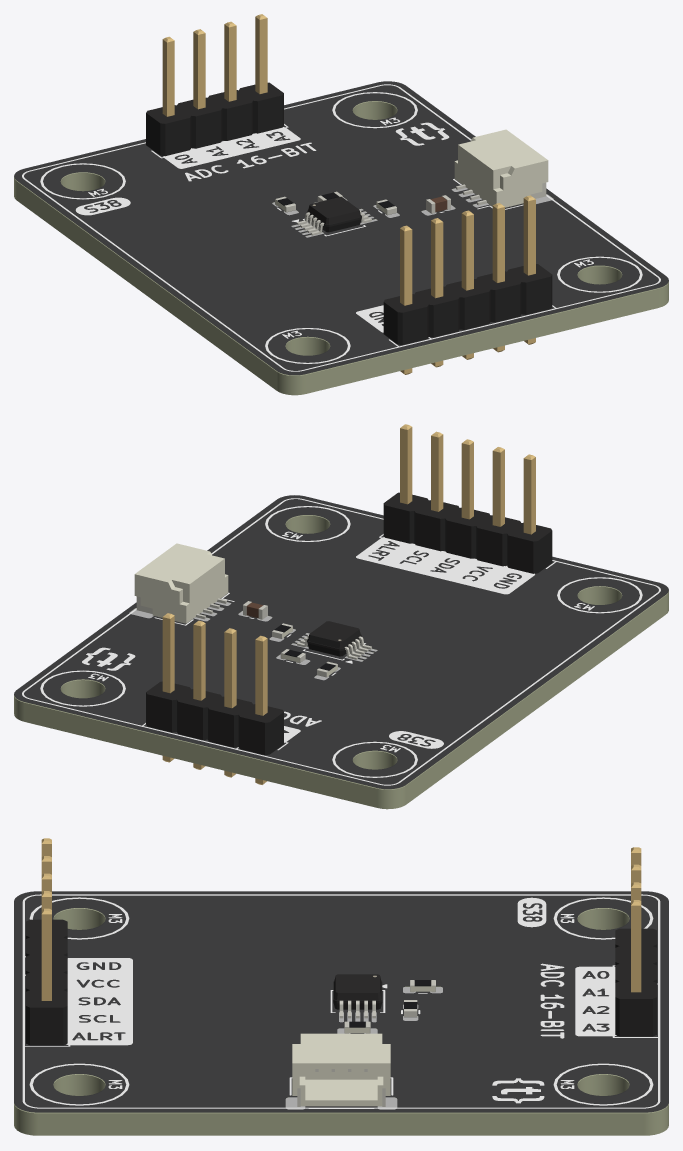
The picture shows the model from 3 angles, top to bottom: view 1: azimuth 30°, elevation 25°; view 2: azimuth 150°, elevation 25°; view 3: azimuth 270°, elevation 25°; orthographic projection. The views are drawn at different scales.
Parts seen in each view (by area): view 1: =>[0:1:1:11], =>[0:1:1:13], J1, J2, =>[0:1:1:9], J3, U1, =>[0:1:1:8]; view 2: =>[0:1:1:11], =>[0:1:1:13], J1, J2, =>[0:1:1:9], J3, U1, =>[0:1:1:8]; view 3: =>[0:1:1:11], =>[0:1:1:13], =>[0:1:1:9], J3, J1, J2, U1, =>[0:1:1:8].
Part boxes in pixels (x1,y1,x2,y2): =>[0:1:1:11]: (14, 81, 668, 375); =>[0:1:1:13]: (14, 101, 668, 395); J1: (383, 195, 552, 374); J2: (146, 14, 283, 156); =>[0:1:1:9]: (22, 84, 660, 371); J3: (454, 129, 548, 207); U1: (297, 197, 371, 235); =>[0:1:1:8]: (272, 188, 553, 237); =>[0:1:1:11]: (14, 495, 668, 789); =>[0:1:1:13]: (14, 515, 668, 809); J1: (383, 424, 552, 573); J2: (146, 613, 283, 784); =>[0:1:1:9]: (22, 498, 660, 785); J3: (134, 543, 228, 623); U1: (297, 621, 371, 659); =>[0:1:1:8]: (129, 601, 377, 680); =>[0:1:1:11]: (14, 891, 668, 1112); =>[0:1:1:13]: (14, 908, 668, 1135); =>[0:1:1:9]: (22, 894, 660, 1108); J3: (292, 1033, 390, 1106); J1: (26, 838, 67, 1045); J2: (615, 847, 656, 1036); U1: (333, 974, 382, 1018); =>[0:1:1:8]: (285, 987, 442, 1109).
Size of the model in its own units: 0.032 by 0.0115 by 0.04.
